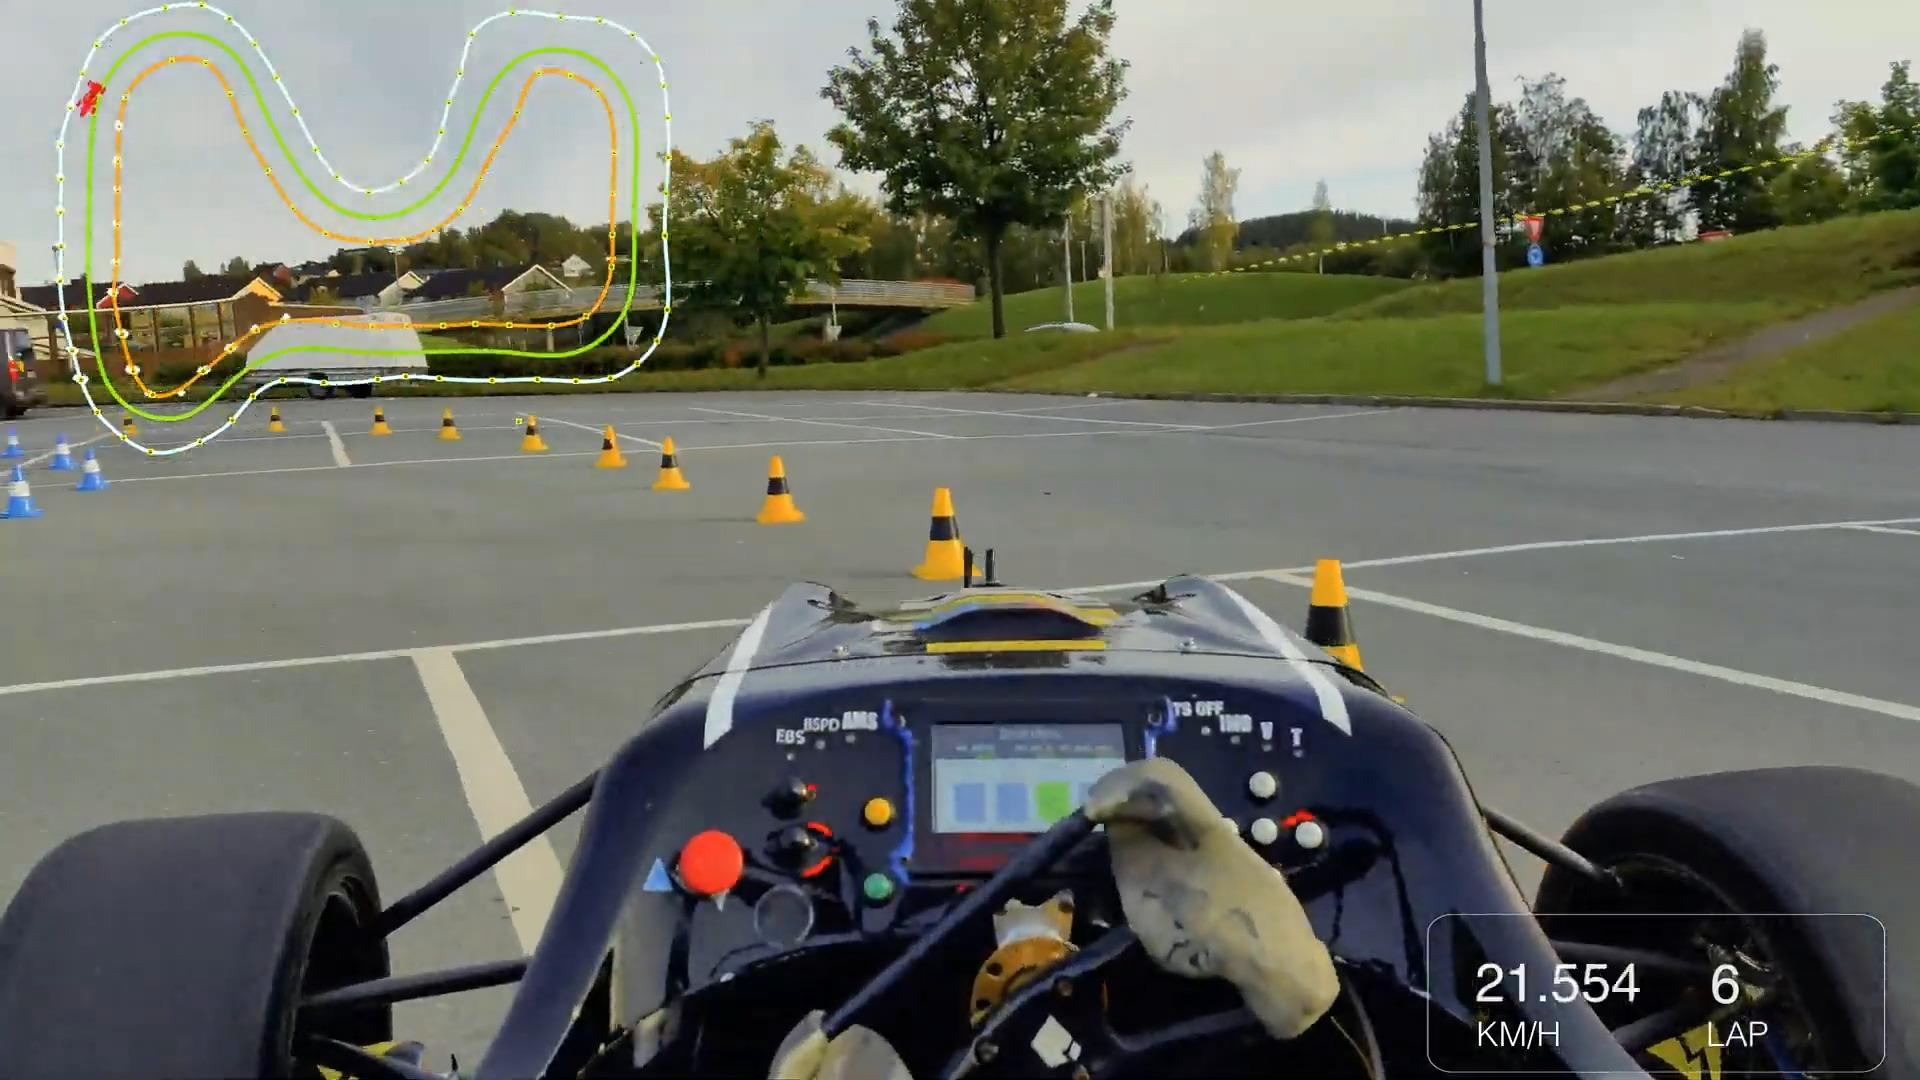blue_cone: (3, 464, 41, 520), (78, 443, 107, 492), (53, 431, 74, 471), (3, 429, 25, 458)
yellow_cone: (1290, 553, 1377, 735), (906, 484, 981, 582), (756, 451, 800, 527), (653, 429, 687, 496), (518, 411, 550, 455), (597, 422, 624, 472), (117, 406, 141, 447), (435, 406, 463, 440), (368, 406, 394, 436), (268, 405, 286, 434)
